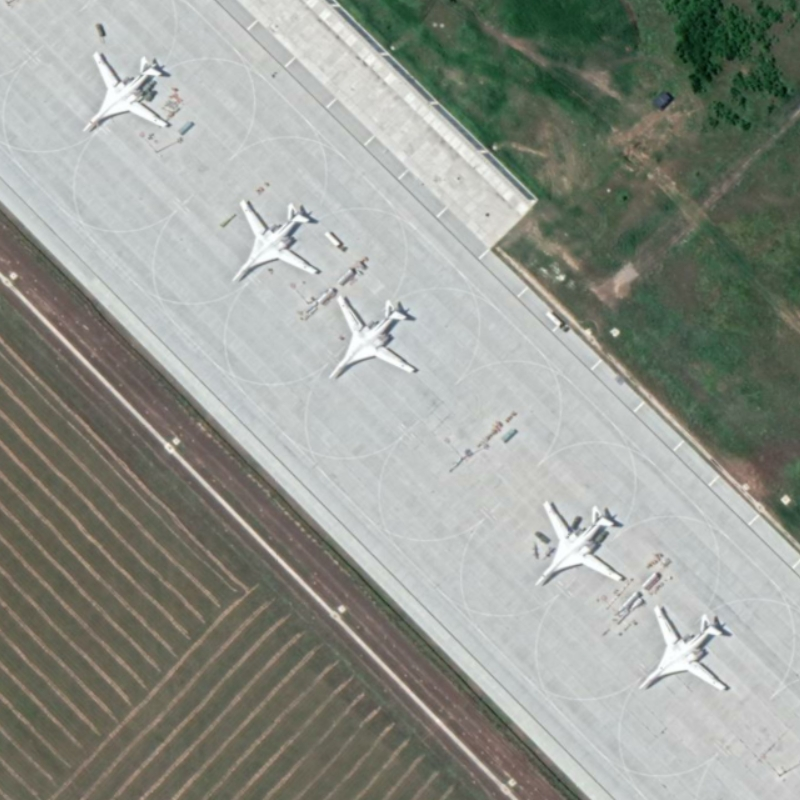A6: (631, 600, 733, 696), (532, 492, 628, 589), (324, 288, 420, 383), (80, 44, 175, 138), (228, 192, 325, 282)
